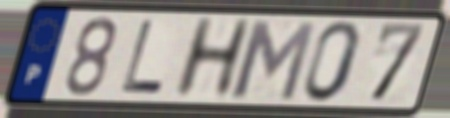0: (301, 19, 365, 105)
7: (368, 20, 429, 106)
8: (64, 14, 118, 98)
H: (168, 15, 257, 102)
L: (118, 19, 167, 97)
M: (229, 17, 319, 103)
